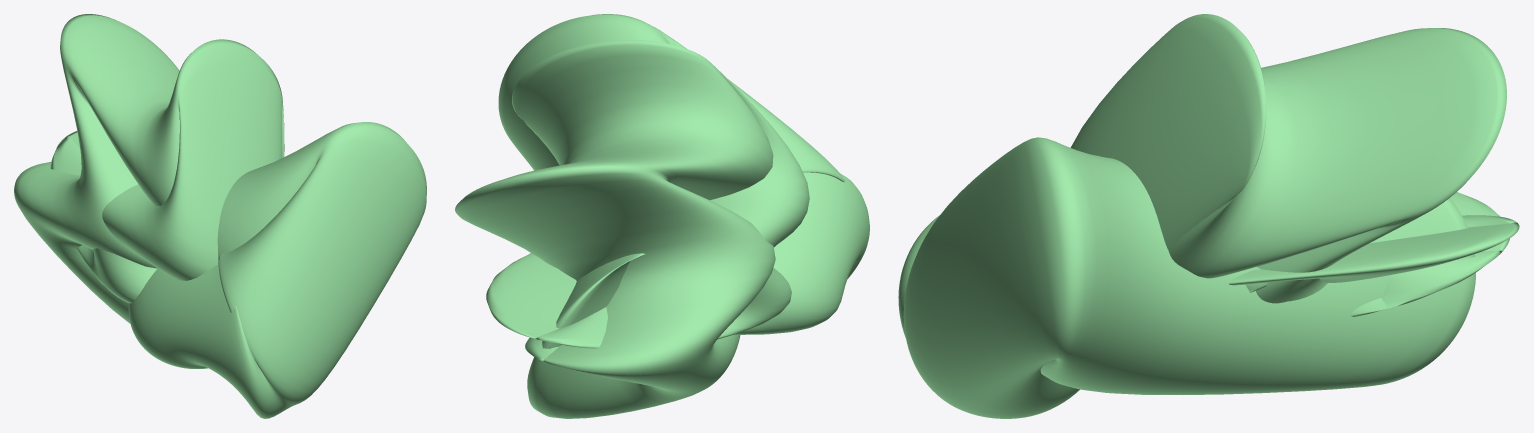
3 views of the same model, side by side, from view 1: azimuth 30°, elevation 25°; view 2: azimuth 150°, elevation 25°; view 3: azimuth 270°, elevation 25° (orthographic). The views are drawn at different scales.
Visible parts, largest first — view 1: CR_E; view 2: CR_E; view 3: CR_E.
Part boxes in pixels (box(x1,y1,x2,y2)): CR_E: box(14, 14, 426, 418); CR_E: box(455, 14, 869, 418); CR_E: box(898, 14, 1519, 418).
Bounding box in the file's own units: 11.75 × 11.55 × 16.29.
